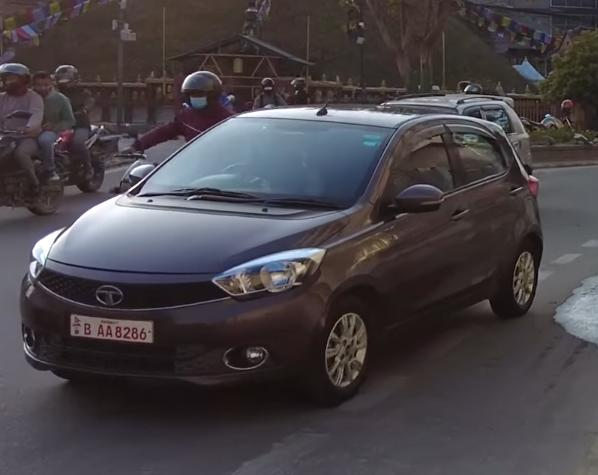car: (13, 95, 546, 396)
